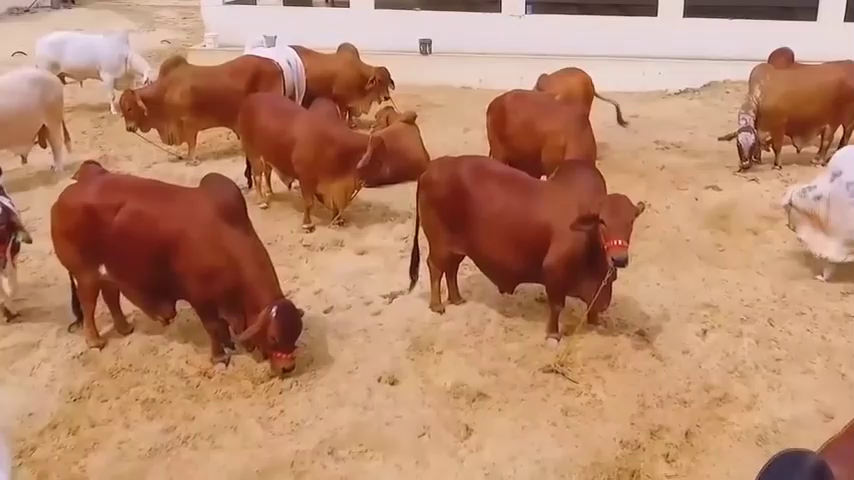bo: (46, 158, 316, 385), (408, 151, 644, 353), (233, 85, 386, 232), (113, 49, 285, 169), (710, 53, 849, 174), (477, 91, 606, 193), (33, 22, 171, 103), (517, 56, 636, 148), (782, 146, 854, 284), (280, 32, 394, 113), (1, 60, 76, 183), (352, 91, 436, 193), (244, 22, 310, 109), (1, 171, 34, 331)
